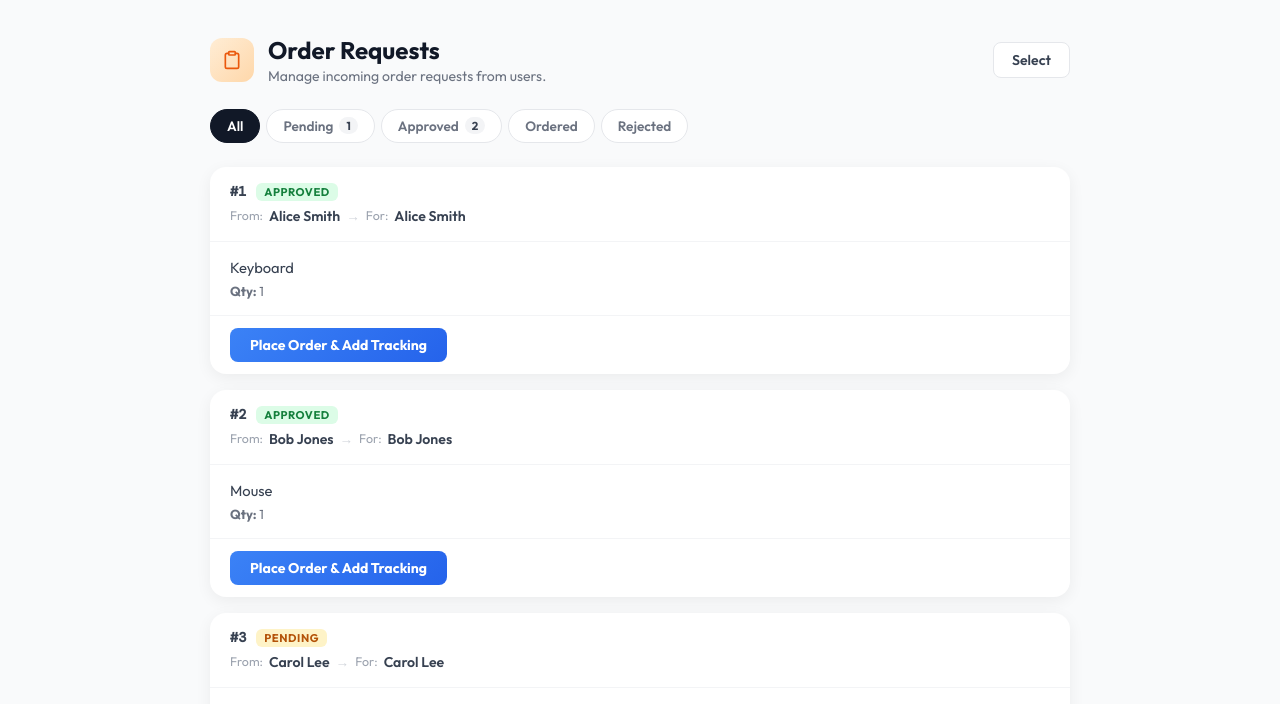
Scenario: Group creation › opening the group modal shows name input
Click the button "Select".
click(1032, 60)  # box [993,42,1070,78]
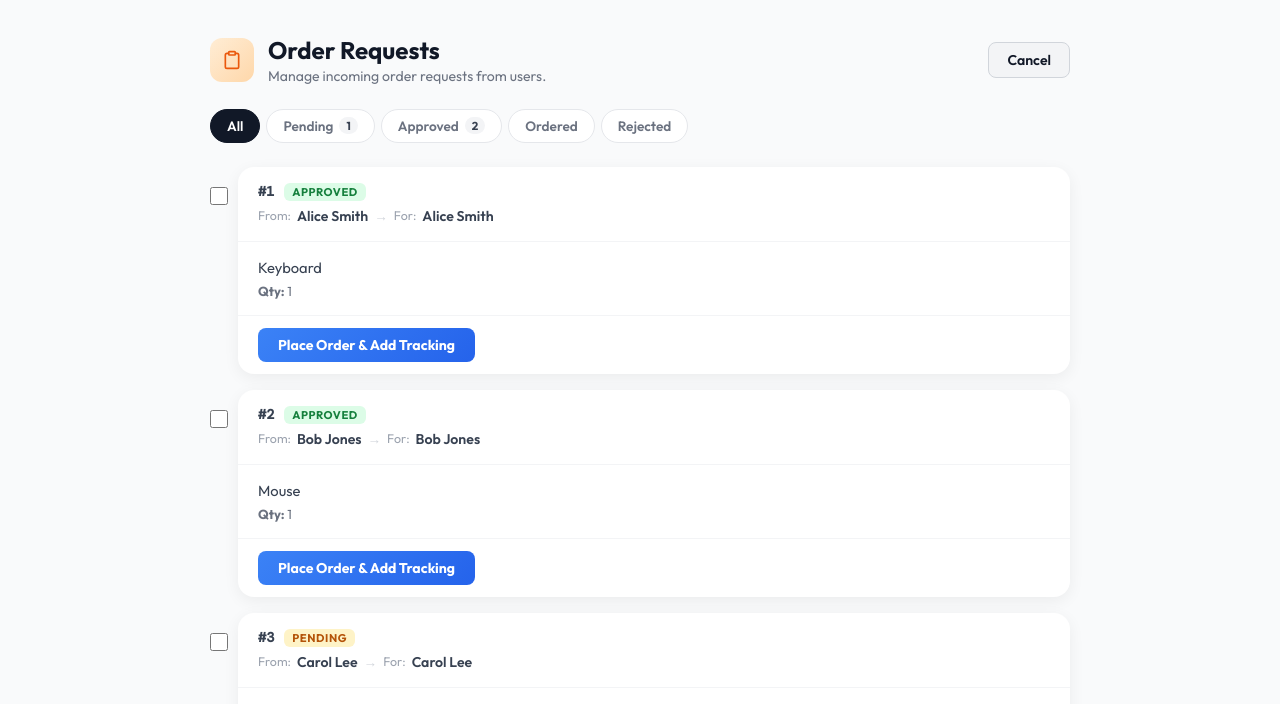
Click the 1st checkbox.
click(219, 196)  # box [210,187,228,205]
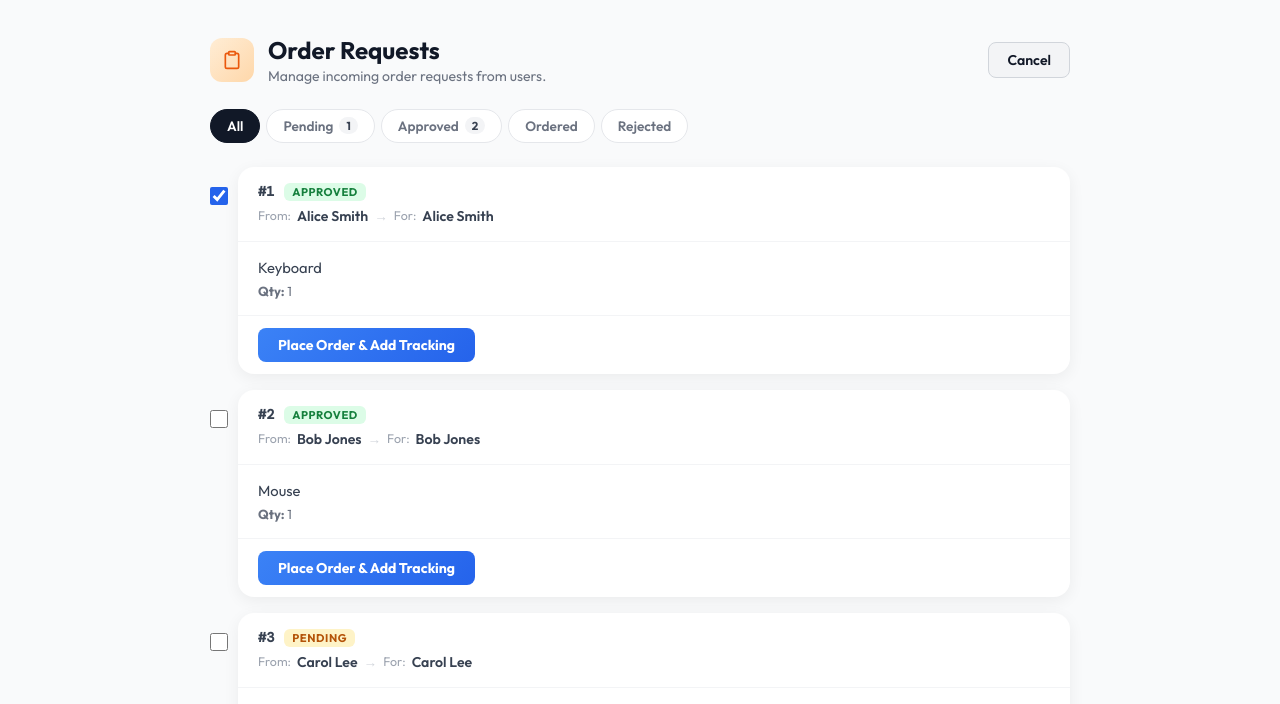
Click the 2nd checkbox.
click(219, 419)  # box [210,410,228,428]
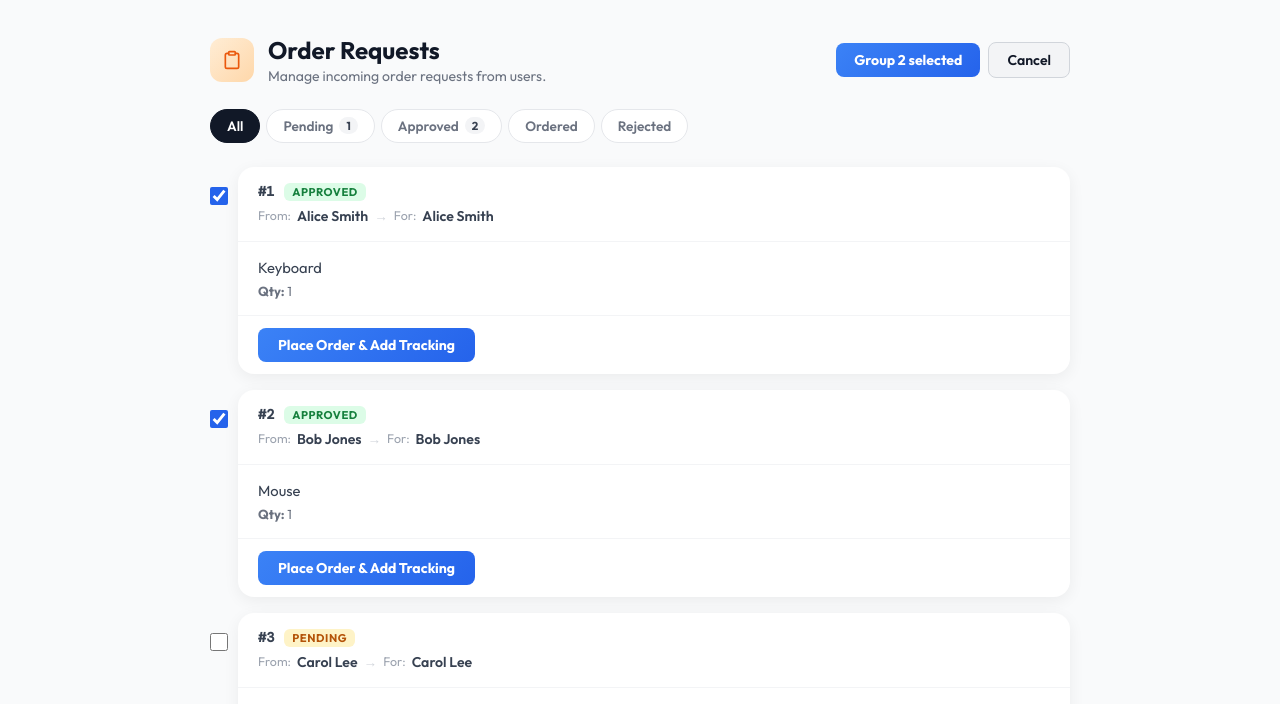
Click the button "Group 2 selected".
click(908, 60)  # box [836,43,980,77]
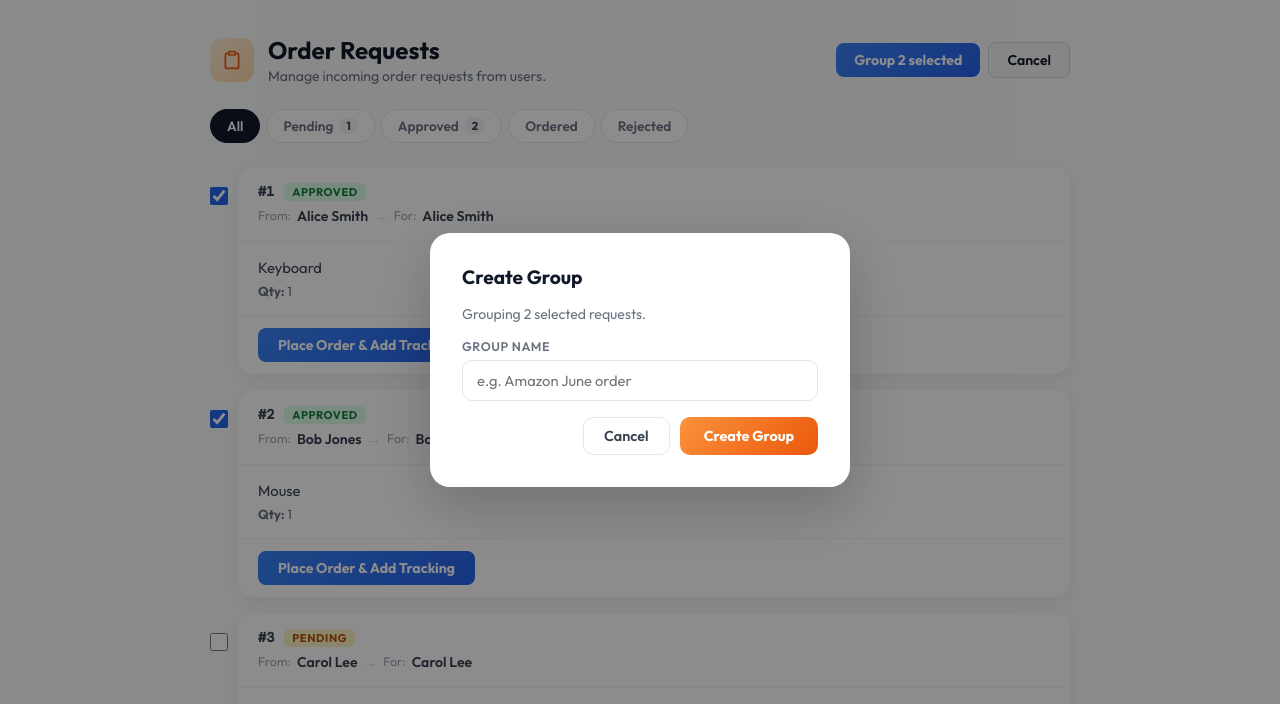
expect the field with placeholder "e.g. Amazon June order" is shown: met, box [462,360,818,401]
